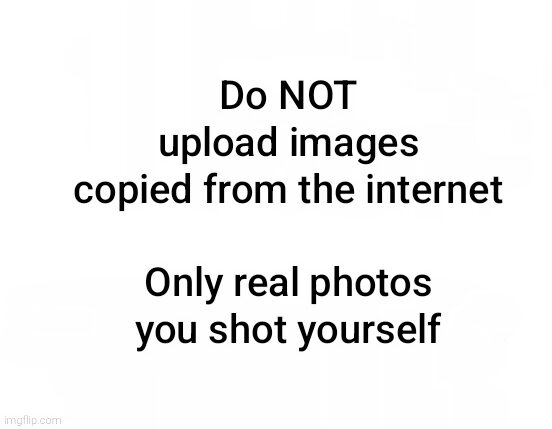True Dates - Sour Cola: (28, 21, 524, 408)
